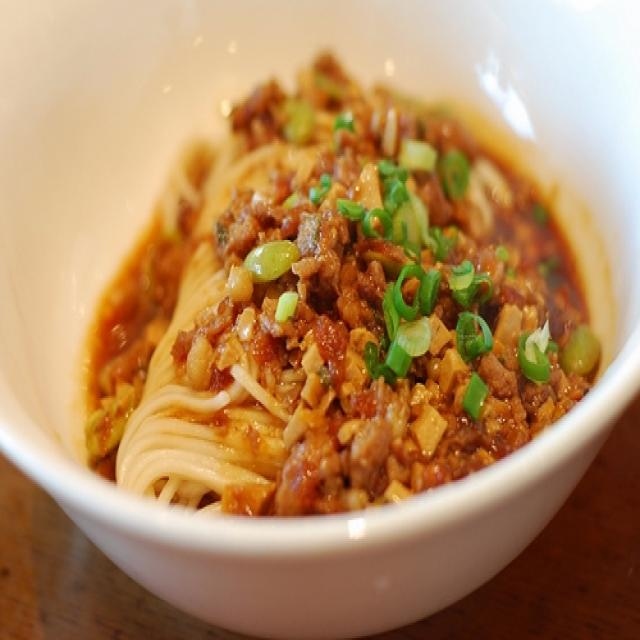面条主食: (23, 23, 612, 609)
